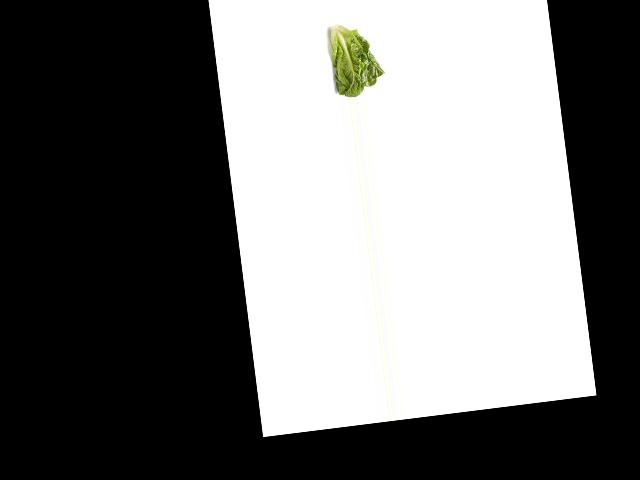lettuce: (316, 16, 387, 100)
